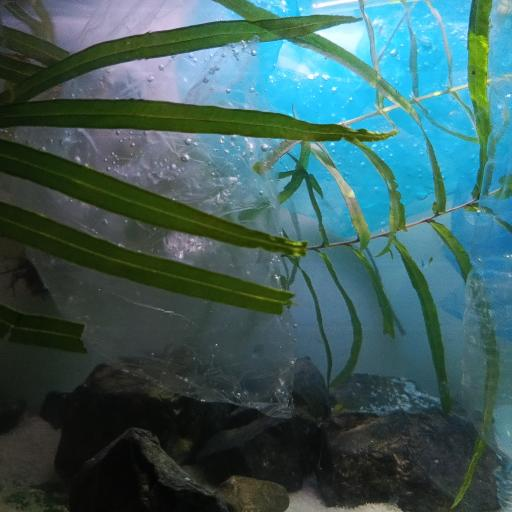plastic_bag: (3, 0, 302, 411), (175, 0, 510, 361)
plastic_bottle: (463, 90, 512, 512)
